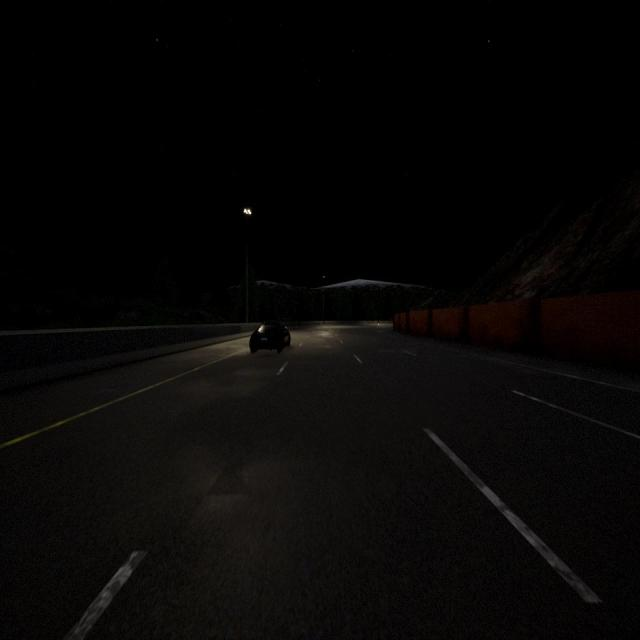Vehicle: (250, 323, 290, 352)
